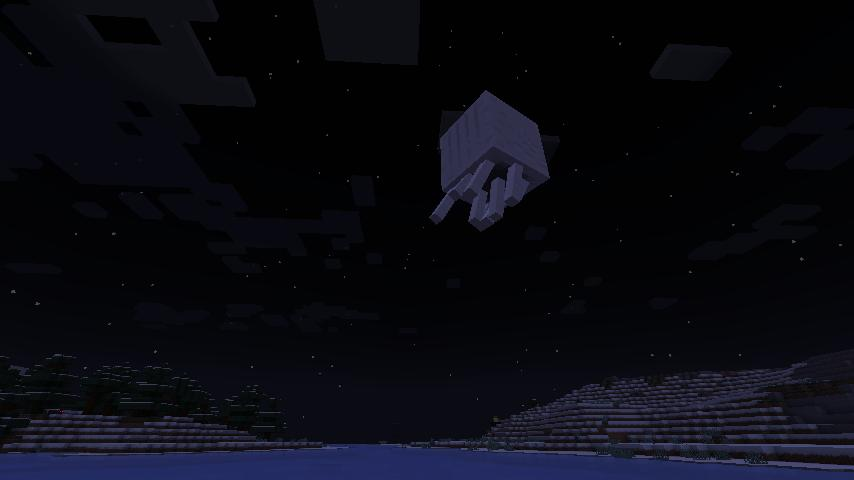ghast: (431, 89, 554, 234)
